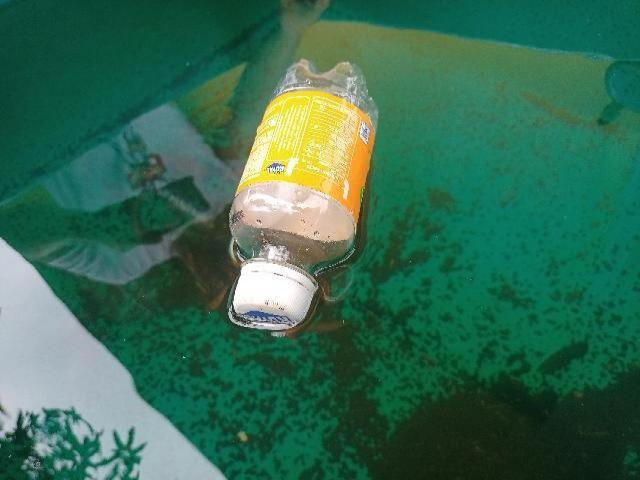Bottle: (209, 53, 386, 338)
